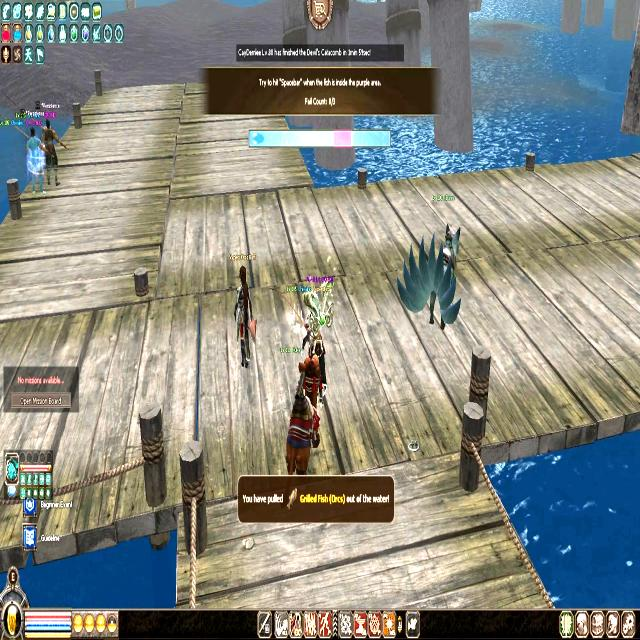fishes: (251, 126, 267, 150)
